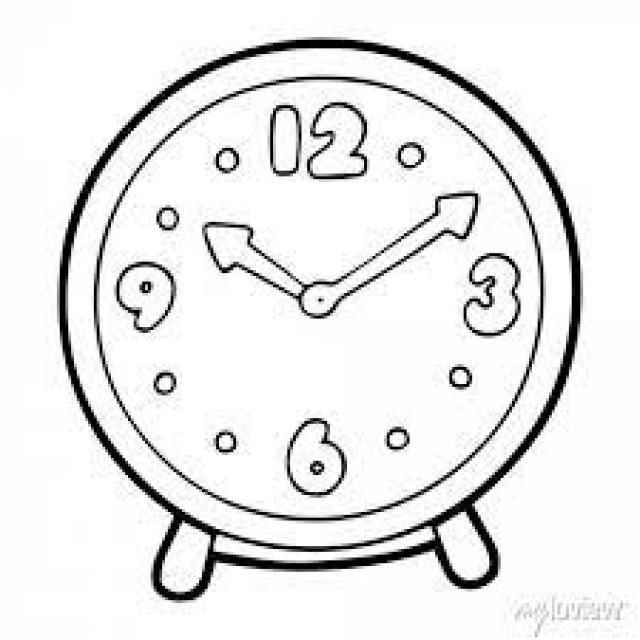Clocks-images: (55, 36, 562, 547)
